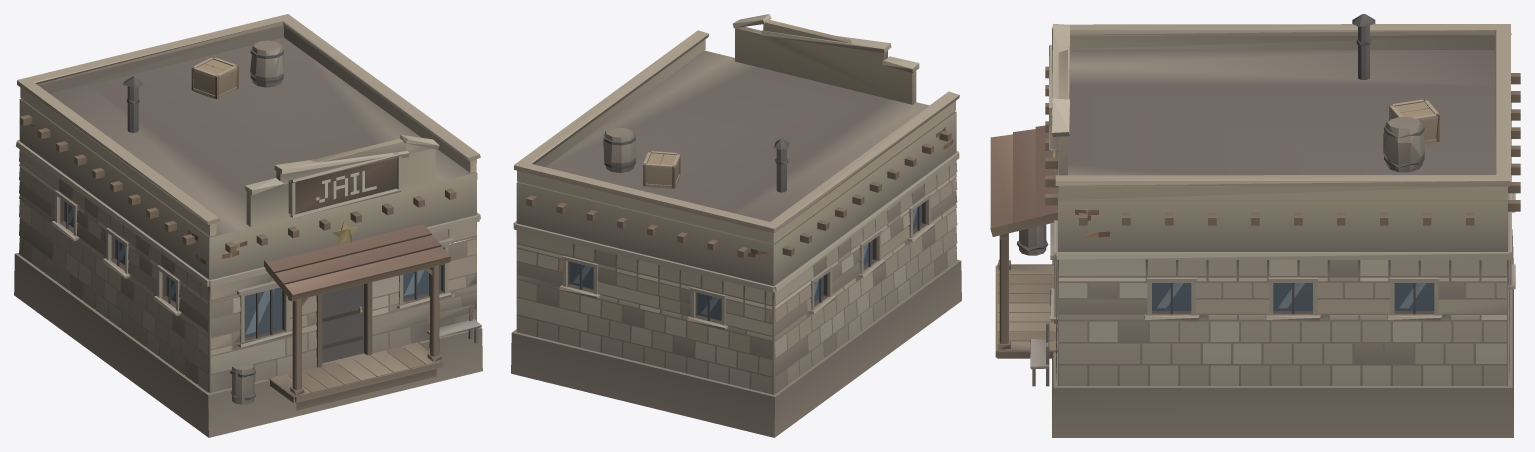
The model's file is house_4.lod1.glb.
The picture shows the model from 3 angles, left to right: view 1: azimuth 30°, elevation 25°; view 2: azimuth 150°, elevation 25°; view 3: azimuth 270°, elevation 25°; orthographic projection. The views are drawn at different scales.
Size of the model in its own units: 7.74 by 6.5 by 10.49.
